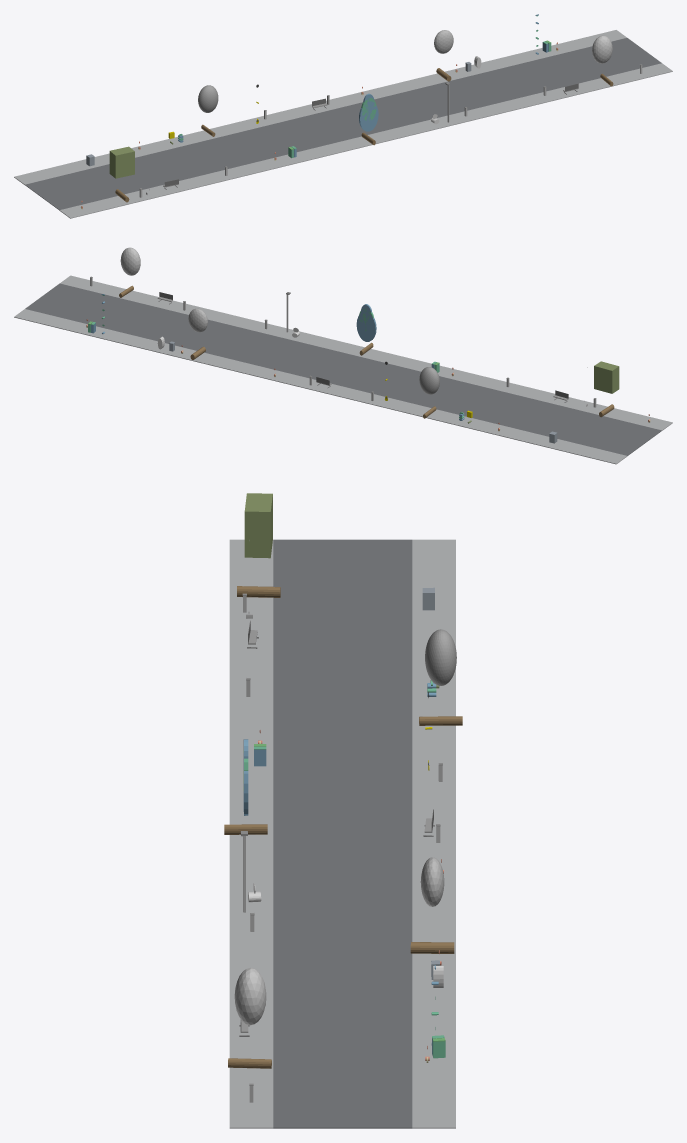
The picture shows the model from 3 angles, top to bottom: view 1: azimuth 30°, elevation 25°; view 2: azimuth 150°, elevation 25°; view 3: azimuth 270°, elevation 25°; orthographic projection. The views are drawn at different scales.
Visible parts, largest first — view 1: road_slab, sidewalk_left, sidewalk_right, inst_0012, inst_0014, inst_0016, inst_0013, inst_0015; view 2: road_slab, sidewalk_right, sidewalk_left, inst_0012, inst_0014, inst_0013, inst_0016, inst_0015; view 3: road_slab, sidewalk_left, sidewalk_right, inst_0012, inst_0016, inst_0013, inst_0015, inst_0014.
Boxes of the visible parts, x1=… form: road_slab: x1=25, y1=38, x2=661, y2=210; sidewalk_left: x1=59, y1=63, x2=672, y2=218; sidewalk_right: x1=14, y1=30, x2=626, y2=184; inst_0012: x1=109, y1=146, x2=134, y2=202; inst_0014: x1=359, y1=93, x2=378, y2=145; inst_0016: x1=592, y1=35, x2=613, y2=86; inst_0013: x1=198, y1=85, x2=218, y2=136; inst_0015: x1=434, y1=30, x2=453, y2=81; road_slab: x1=25, y1=283, x2=661, y2=455; sidewalk_right: x1=14, y1=309, x2=627, y2=464; sidewalk_left: x1=60, y1=275, x2=672, y2=430; inst_0012: x1=594, y1=361, x2=619, y2=417; inst_0014: x1=356, y1=304, x2=376, y2=355; inst_0013: x1=419, y1=367, x2=439, y2=418; inst_0016: x1=119, y1=247, x2=140, y2=297; inst_0015: x1=188, y1=308, x2=207, y2=359; road_slab: x1=273, y1=539, x2=412, y2=1128; sidewalk_left: x1=229, y1=539, x2=273, y2=1128; sidewalk_right: x1=412, y1=539, x2=455, y2=1128; inst_0012: x1=237, y1=493, x2=280, y2=597; inst_0016: x1=228, y1=967, x2=271, y2=1068; inst_0013: x1=419, y1=629, x2=462, y2=725; inst_0015: x1=410, y1=857, x2=454, y2=953; inst_0014: x1=224, y1=739, x2=267, y2=834.
Bounding box in the file's own units: 80 × 6.08 × 13.71.
